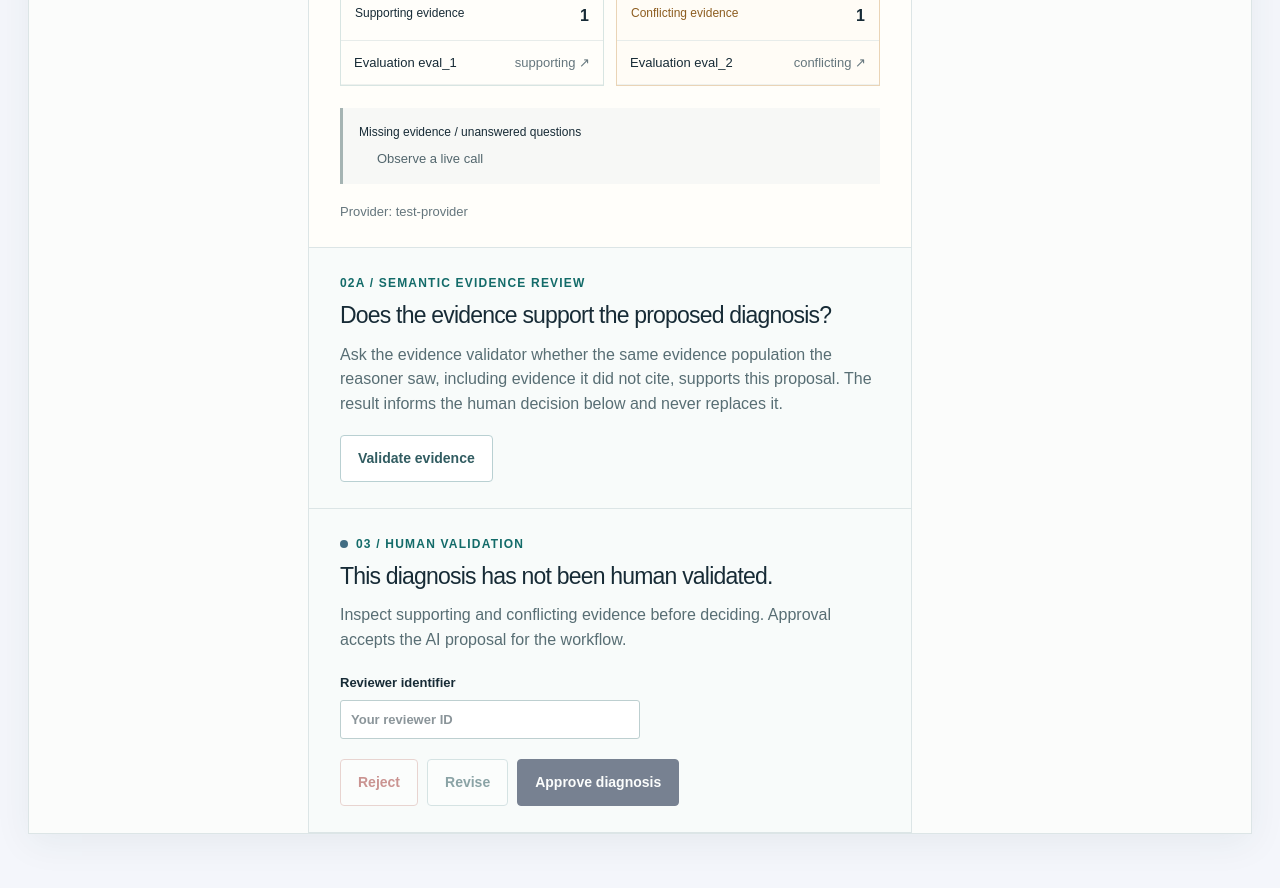
Test: diagnostic review semantics › opens the validator's contradicting evidence in the inspector by local reference
(page scrolled)
Click the button "Validate evidence" at (416, 458), box [340, 435, 493, 482]
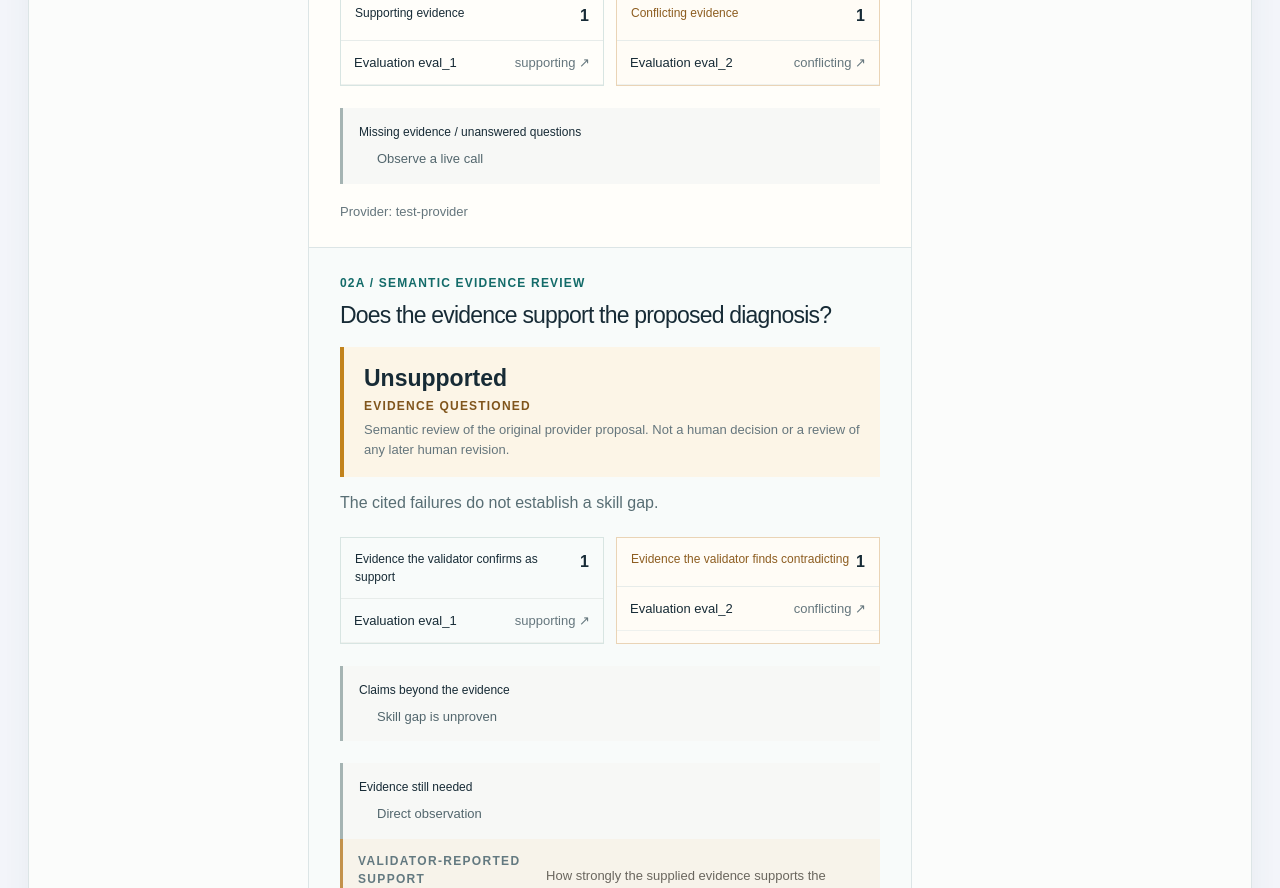
Click the button "Evaluation eval_2 conflicting ↗" below "EVIDENCE QUESTIONED" at (681, 608), box [617, 587, 879, 631]
(page scrolled)
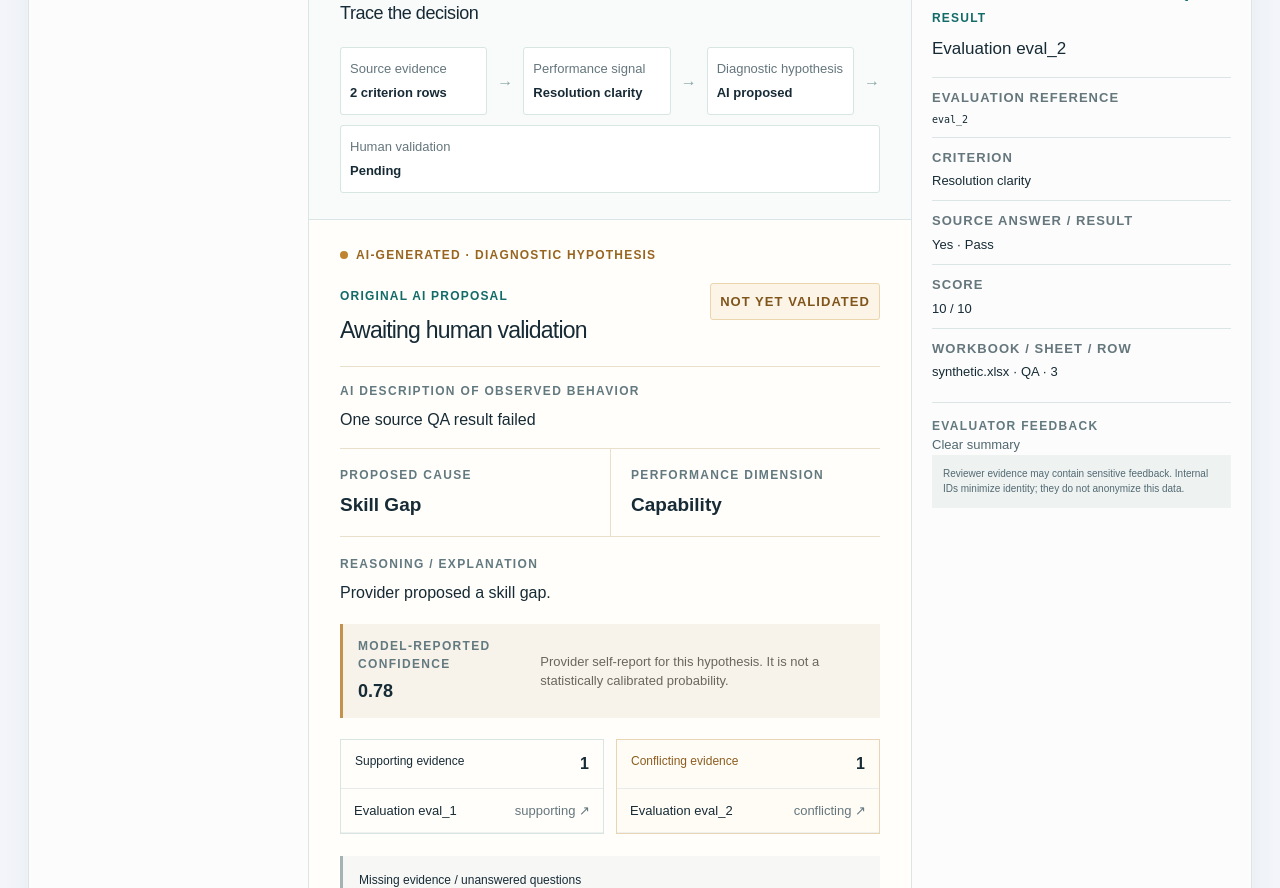
Result: the text "Yes · Pass" is shown at [932, 237, 994, 252]
Result: the text "Clear summary" is shown at [932, 436, 1020, 452]
